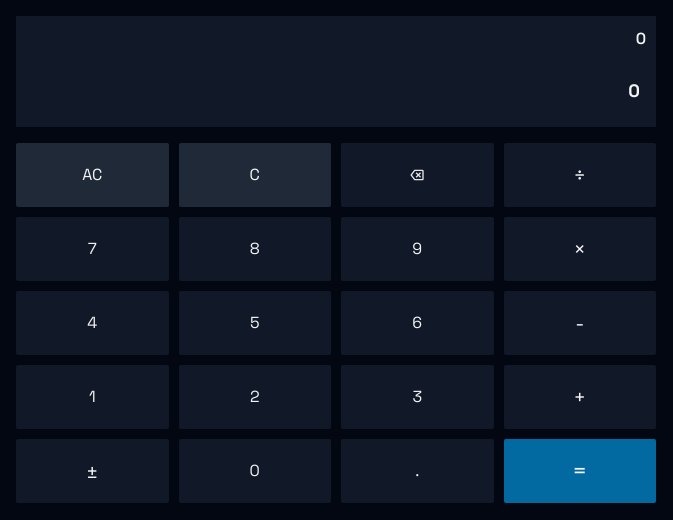
Test case: Test Operations › Test basic addition operation
The width and height of the screenshot is (673, 520).
Click the button with test id "1" at coordinates (92, 397), box top-left (16, 365), bottom-right (168, 429)
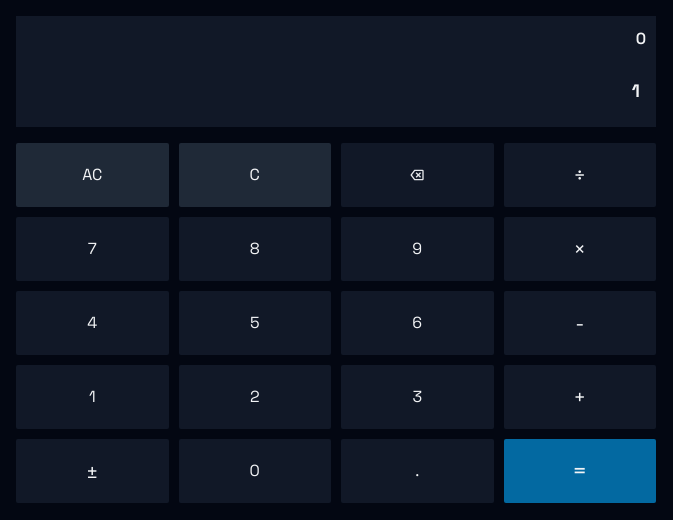
Click the button with test id "1" at coordinates (92, 397), box top-left (16, 365), bottom-right (168, 429)
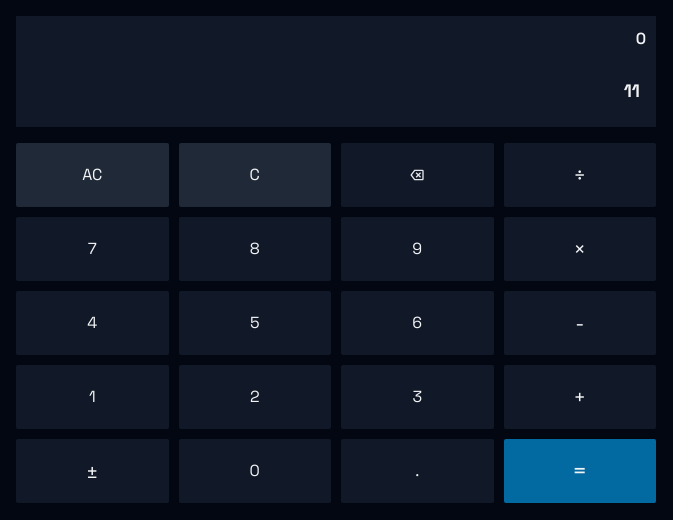
Click the button with test id "add" at coordinates (580, 397), box top-left (504, 365), bottom-right (656, 429)
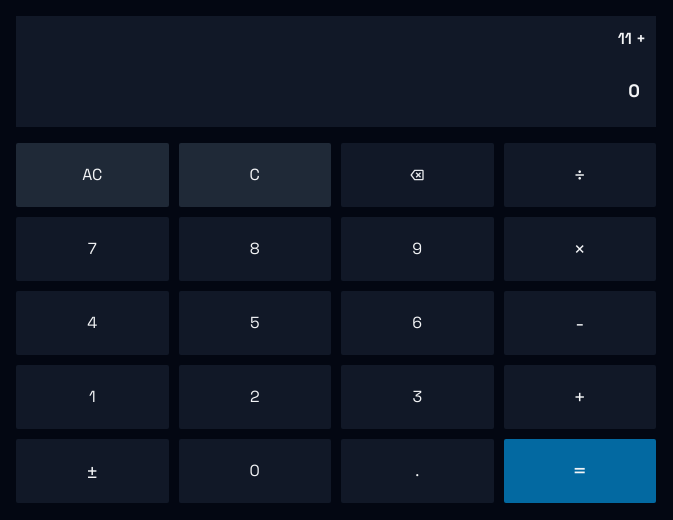
Click the button with test id "2" at coordinates (255, 397), box top-left (178, 365), bottom-right (331, 429)
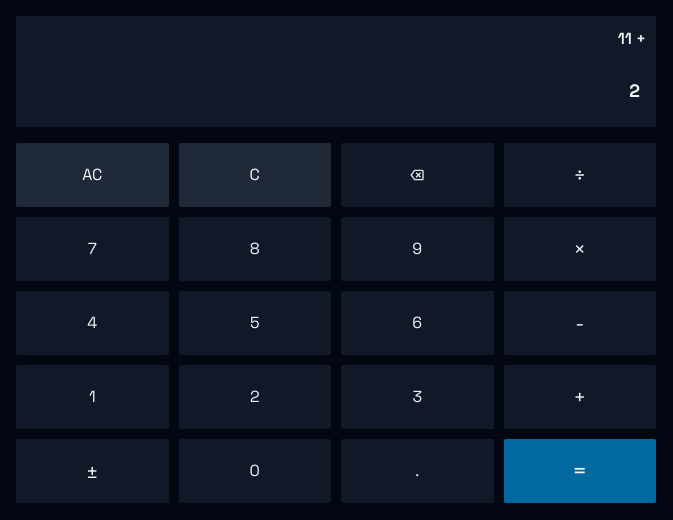
Click the button with test id "eval" at coordinates (580, 471), box top-left (504, 439), bottom-right (656, 503)
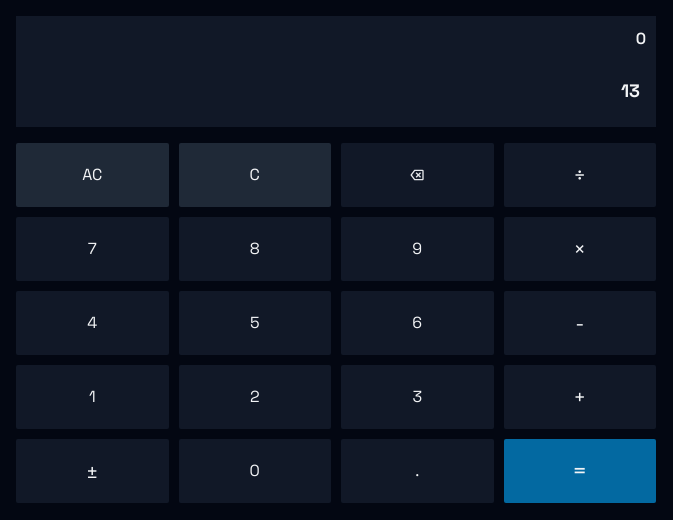
Expected: the text with test id "calculator-currentOperand" reads "13", top-left (621, 79), bottom-right (640, 102)
